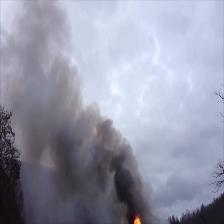fire: (133, 215, 142, 224)
smoke: (21, 7, 65, 125), (68, 113, 104, 188), (112, 146, 137, 211)
